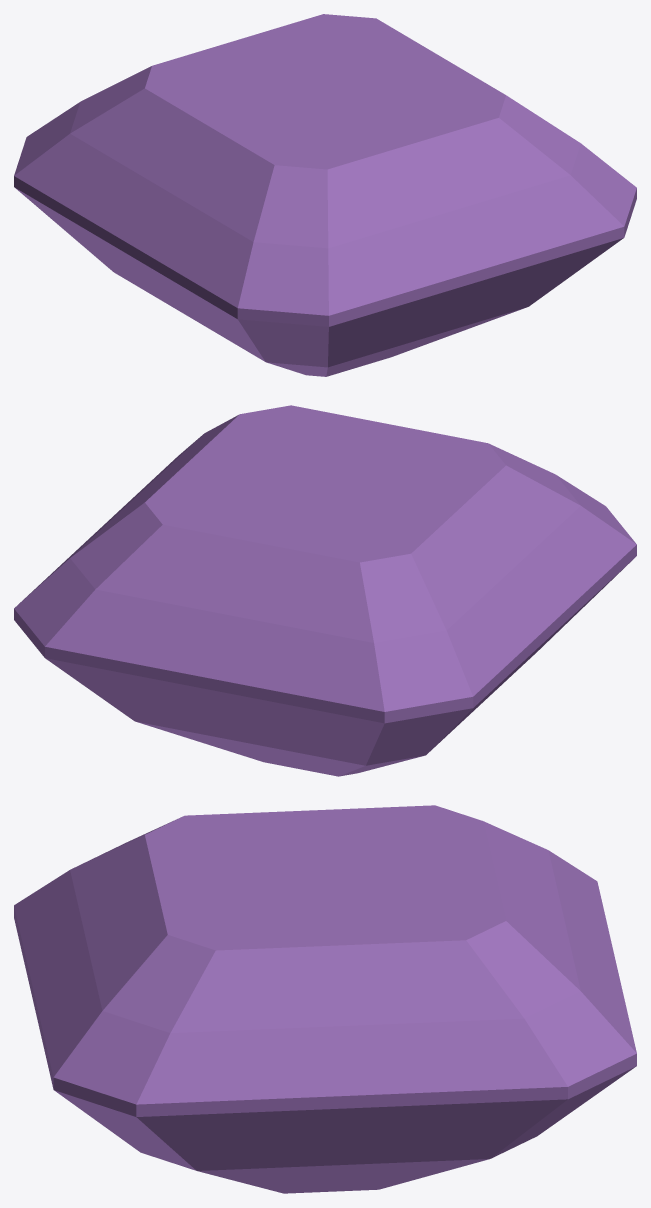
The model's file is stone-amethyst.glb.
The picture shows the model from 3 angles, top to bottom: view 1: azimuth 30°, elevation 25°; view 2: azimuth 150°, elevation 25°; view 3: azimuth 270°, elevation 25°; orthographic projection. The views are drawn at different scales.
Visible parts, largest first — view 1: Gemstone Amethyst; view 2: Gemstone Amethyst; view 3: Gemstone Amethyst.
Boxes of the visible parts, x1,y1,x2,y2 form: Gemstone Amethyst: (14,14,636,376); Gemstone Amethyst: (14,405,636,776); Gemstone Amethyst: (14,805,636,1193).
Bounding box in the file's own units: 2.14 × 1.15 × 2.25.
